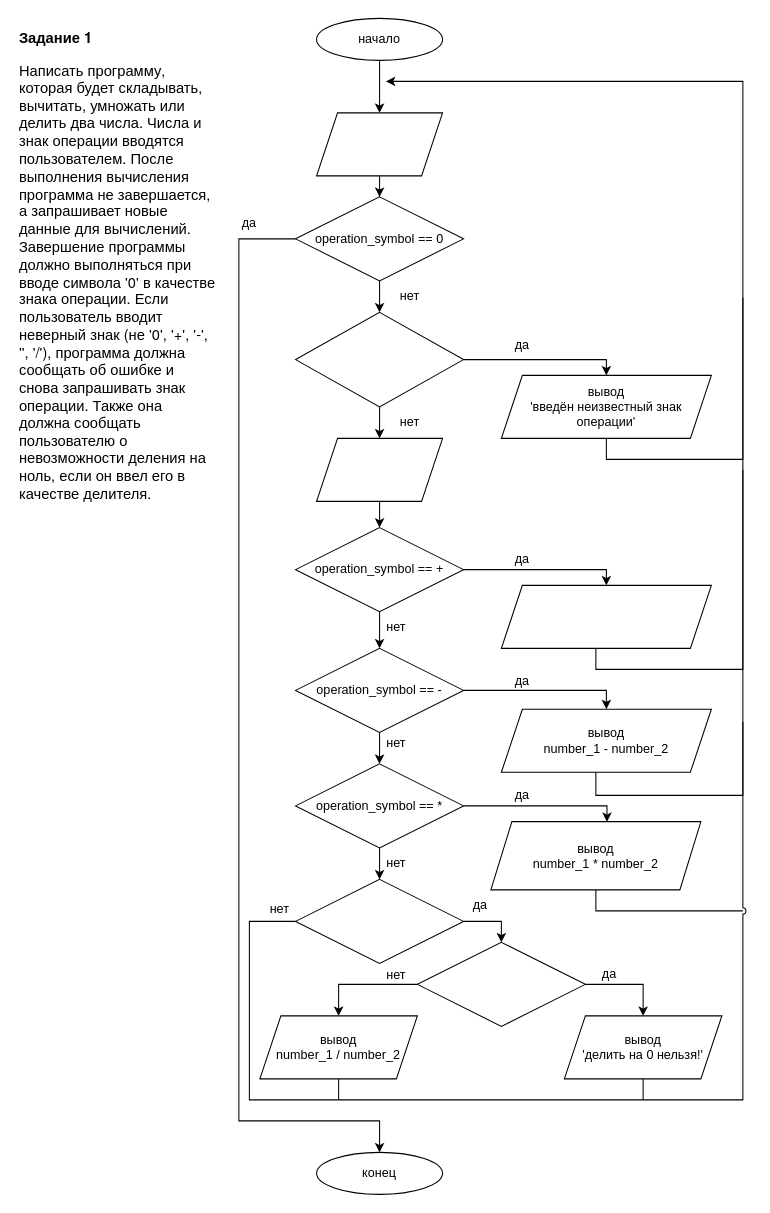
Some shapes in this 770 by 1213 pixel diagram are drawn without their labels. Each missing label, with the box of its shape:
number_2 == 0: (416, 941, 585, 1026)
operation_symbol != +, -, *, /: (295, 311, 464, 407)
operation_symbol == /: (295, 878, 464, 963)
ввод number_1, number_2: (316, 437, 443, 501)
ввод operation_symbol: (316, 112, 443, 176)
вывод number_1 + number_2: (500, 584, 711, 648)
